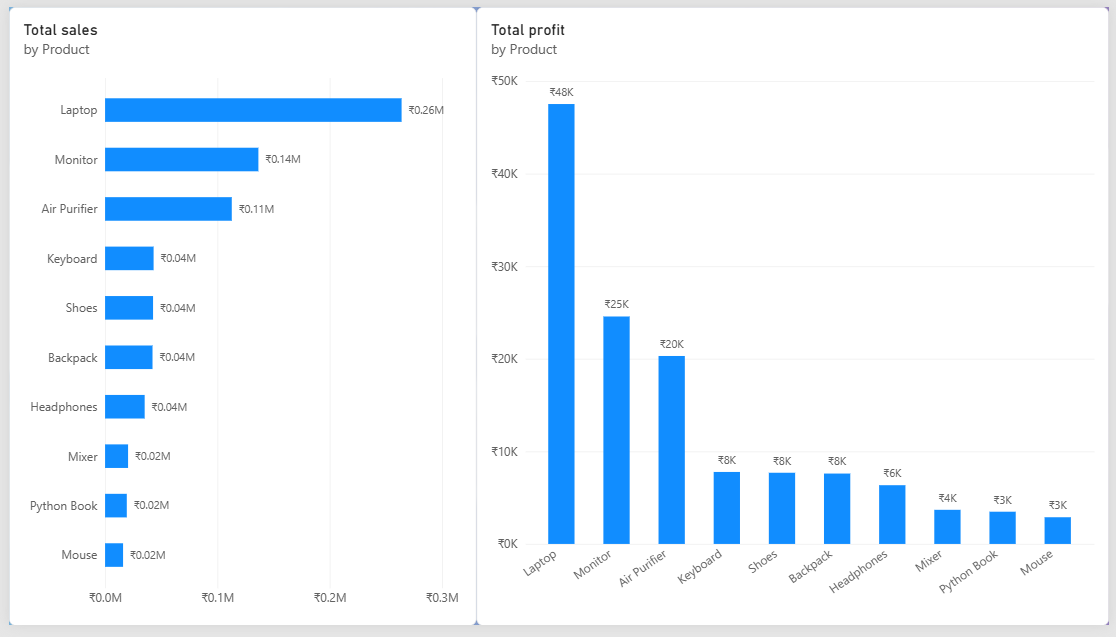

The page's visual inventory and layout, read from the dashboard file:
{"tool":"powerbi","page":{"name":"Page 3","canvas":[1280,720],"ordinal":2},"visuals":[{"type":"barChart","fields":{"Category":["EcommerceSales.Product"],"Y":["EcommerceSales.Total sales"]},"box":[0,0,544,720],"z":0},{"type":"columnChart","fields":{"Category":["EcommerceSales.Product"],"Y":["EcommerceSales.Total profit"]},"box":[544,0,736,720],"z":1000}]}

Visuals, with their boxes in screenshot pixels (x1, y1, x2, y2), scaled from the page's 1280x720 canvas onto the 1116x637 screenshot:
barChart - EcommerceSales.Product x EcommerceSales.Total sales: {"left": 0, "top": 0, "right": 474, "bottom": 636}
columnChart - EcommerceSales.Product x EcommerceSales.Total profit: {"left": 474, "top": 0, "right": 1115, "bottom": 636}
